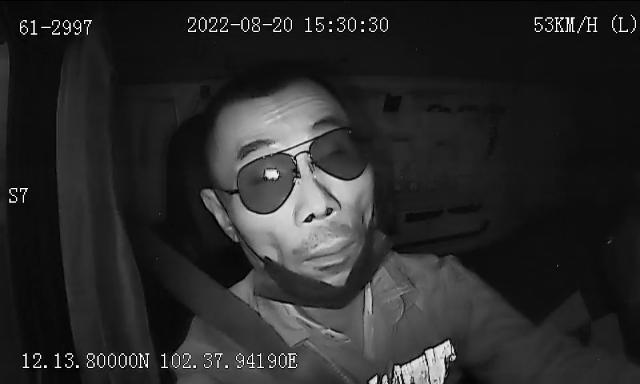SafeDriving: (250, 160, 290, 190)
Seatbelt: (170, 248, 344, 384)
